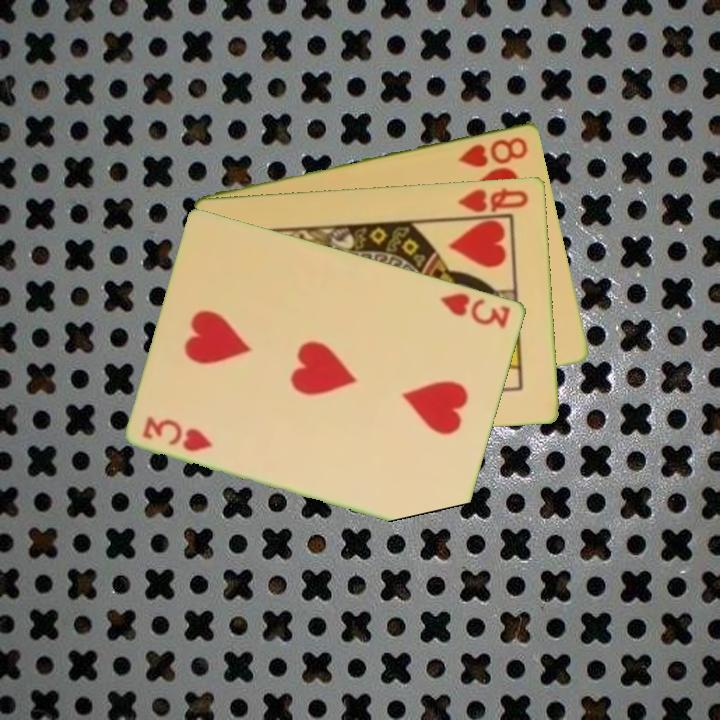3h: (139, 412, 216, 455), (436, 289, 514, 331)
8h: (456, 133, 531, 170)
Qh: (455, 184, 532, 215)
